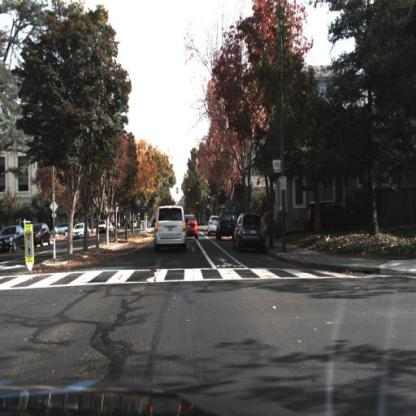car: (152, 201, 190, 258), (302, 202, 357, 233), (230, 211, 269, 253), (1, 225, 27, 258), (31, 222, 56, 250), (216, 211, 237, 243), (187, 209, 201, 245), (205, 213, 219, 238), (71, 221, 87, 242)
trafficLight-Red: (196, 200, 201, 212), (208, 192, 212, 205)
